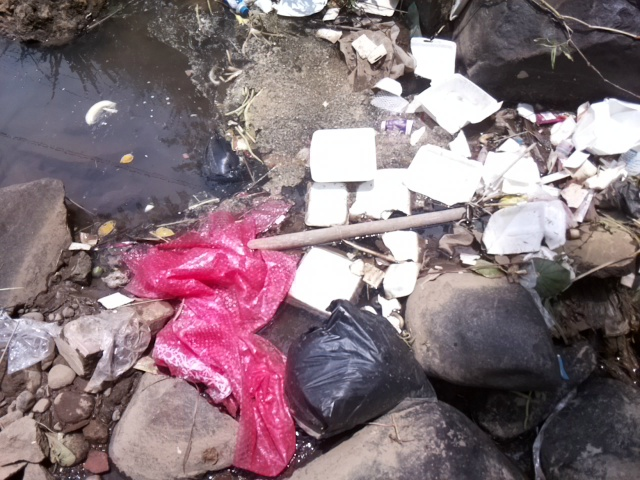Sampah_Plastik: (129, 194, 301, 480), (279, 305, 425, 445), (85, 312, 147, 389), (1, 309, 53, 376), (200, 133, 251, 185)
Sampah_Styrofoam: (403, 36, 496, 133), (287, 243, 374, 317), (553, 100, 640, 165), (400, 145, 487, 203), (308, 126, 380, 185), (481, 202, 551, 259), (377, 226, 423, 300), (293, 175, 354, 229), (351, 166, 411, 218)
